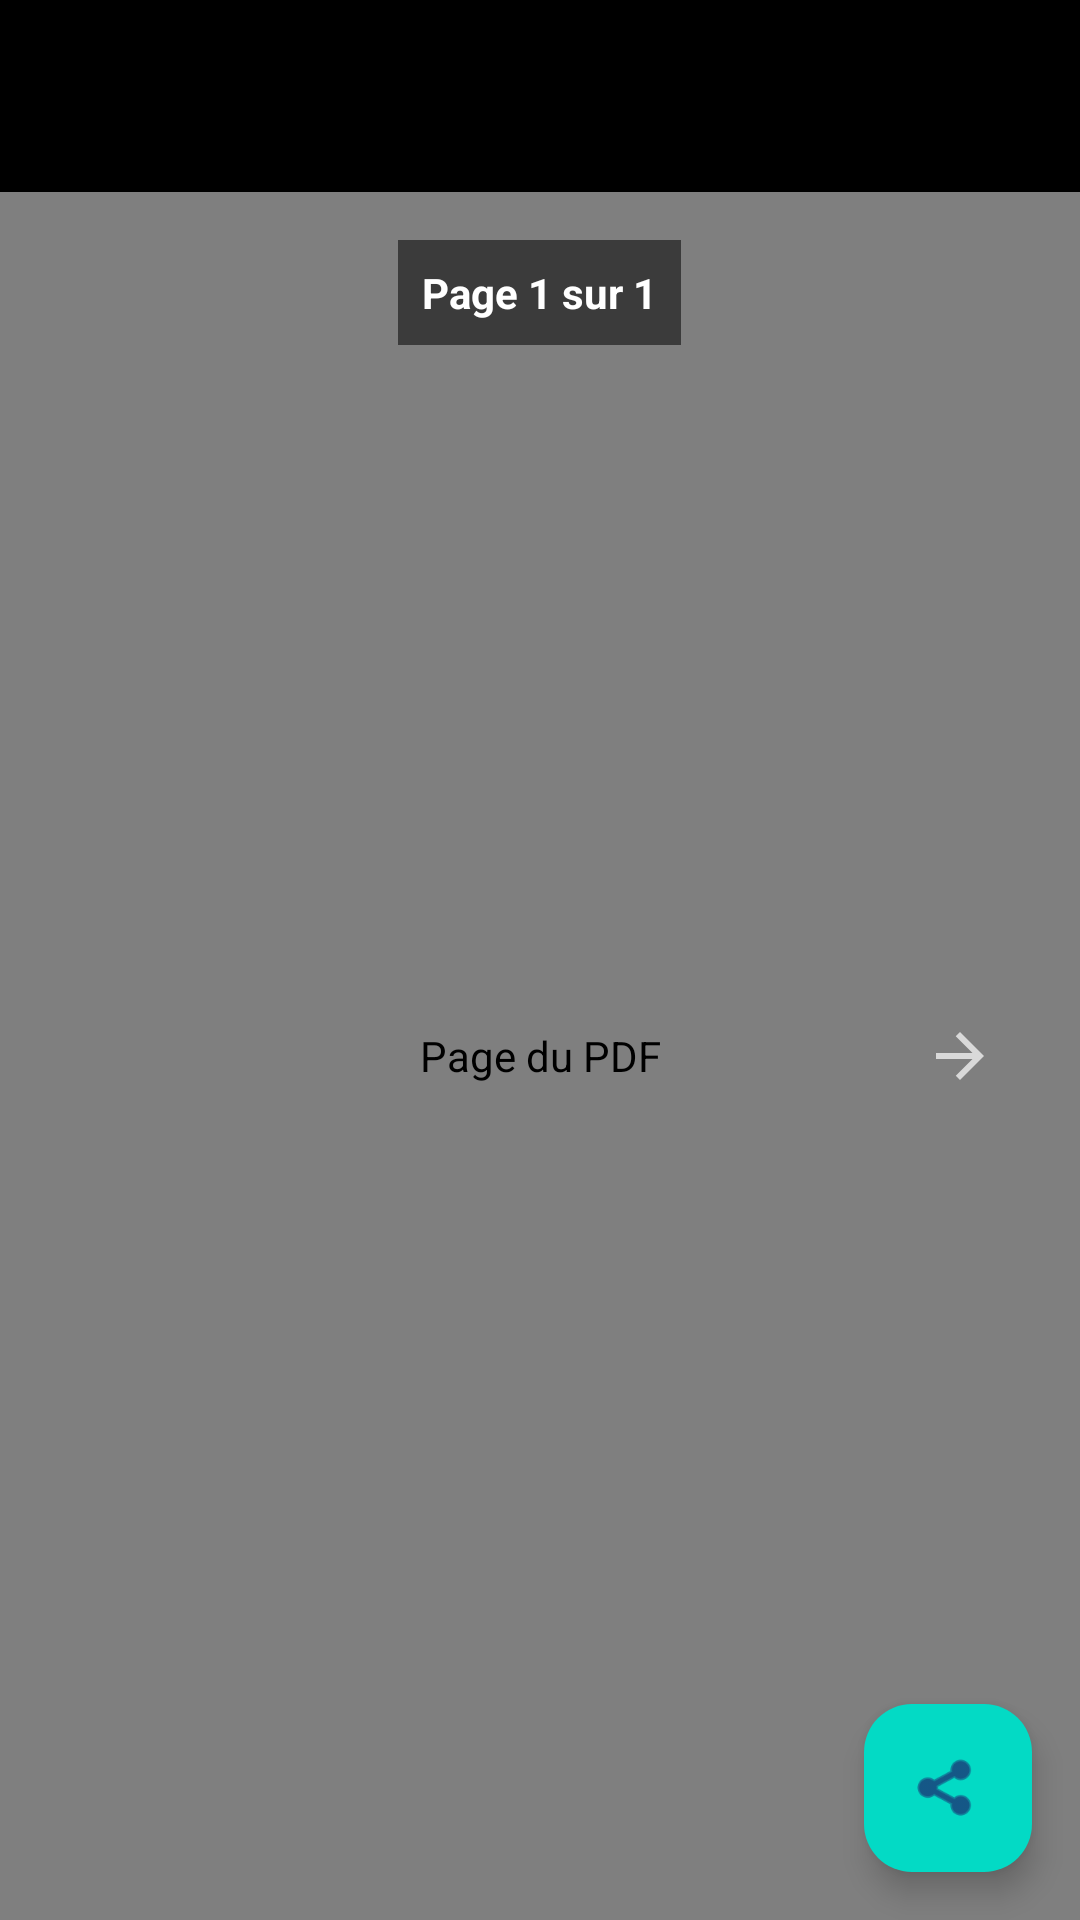

Screen size 1080*1920. Icon name, then its box in pixels as {"x1": x1, "y1": y1, "x2": x2, "y2": y2}:
Page suivante: {"x1": 936, "y1": 1032, "x2": 984, "y2": 1080}
Partager le PDF: {"x1": 864, "y1": 1704, "x2": 1032, "y2": 1872}
